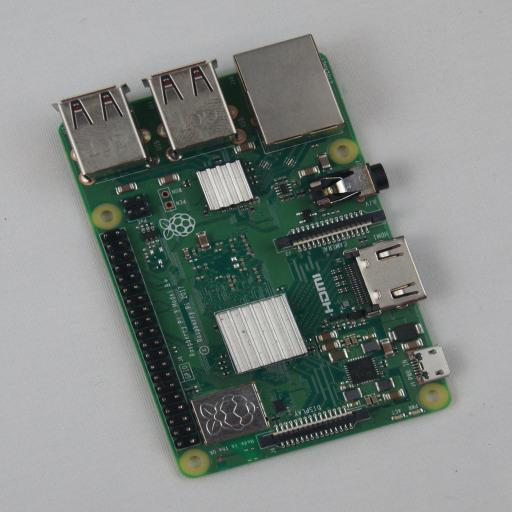Raspberry Pi 3 B-: (54, 34, 451, 478)
